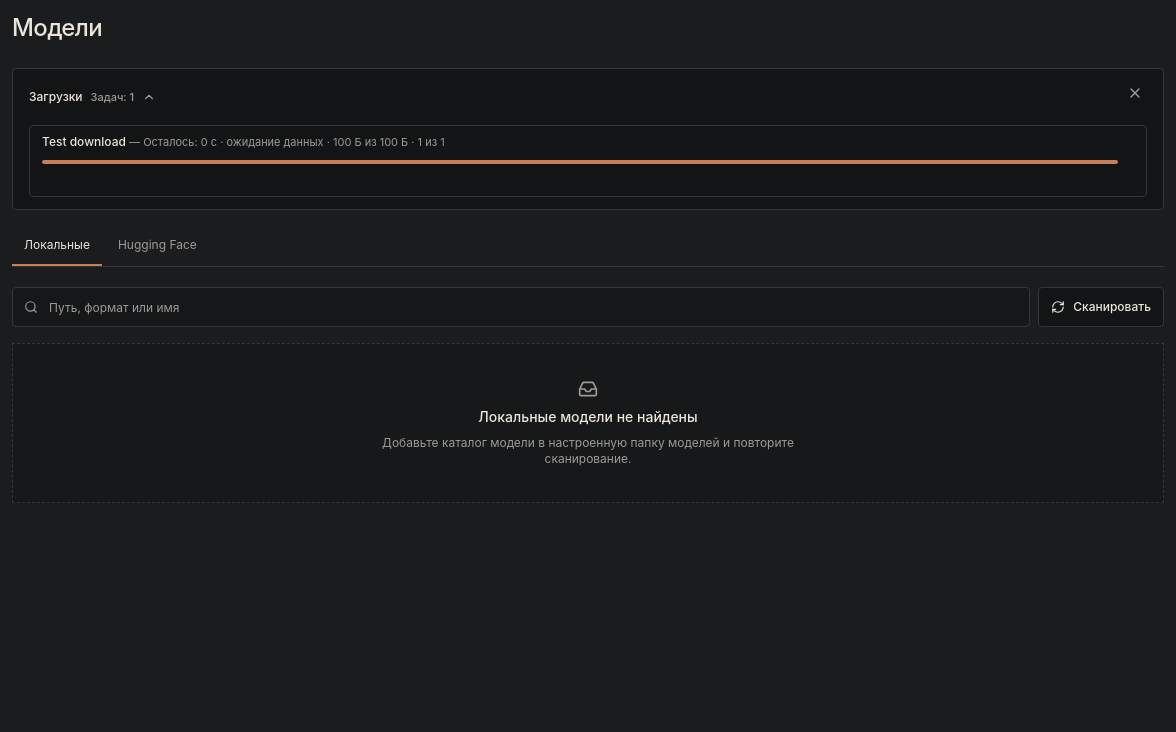
keeps finished downloads visible until the user closes the panel
The width and height of the screenshot is (1176, 732).
Expected: the text "Test download" is shown, [42,134,126,149]
Click the button named "Закрыть блок загрузок": [1135, 93] box [1115,73,1155,113]
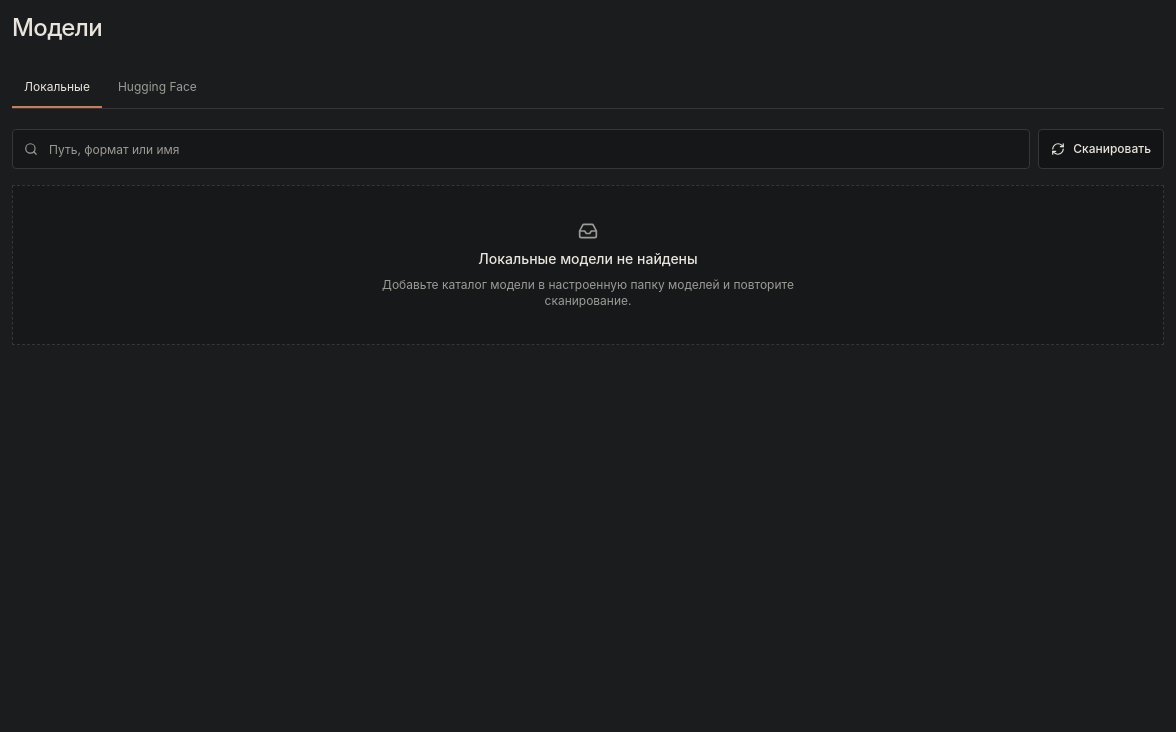
Expected: the button "Загрузки" is gone
